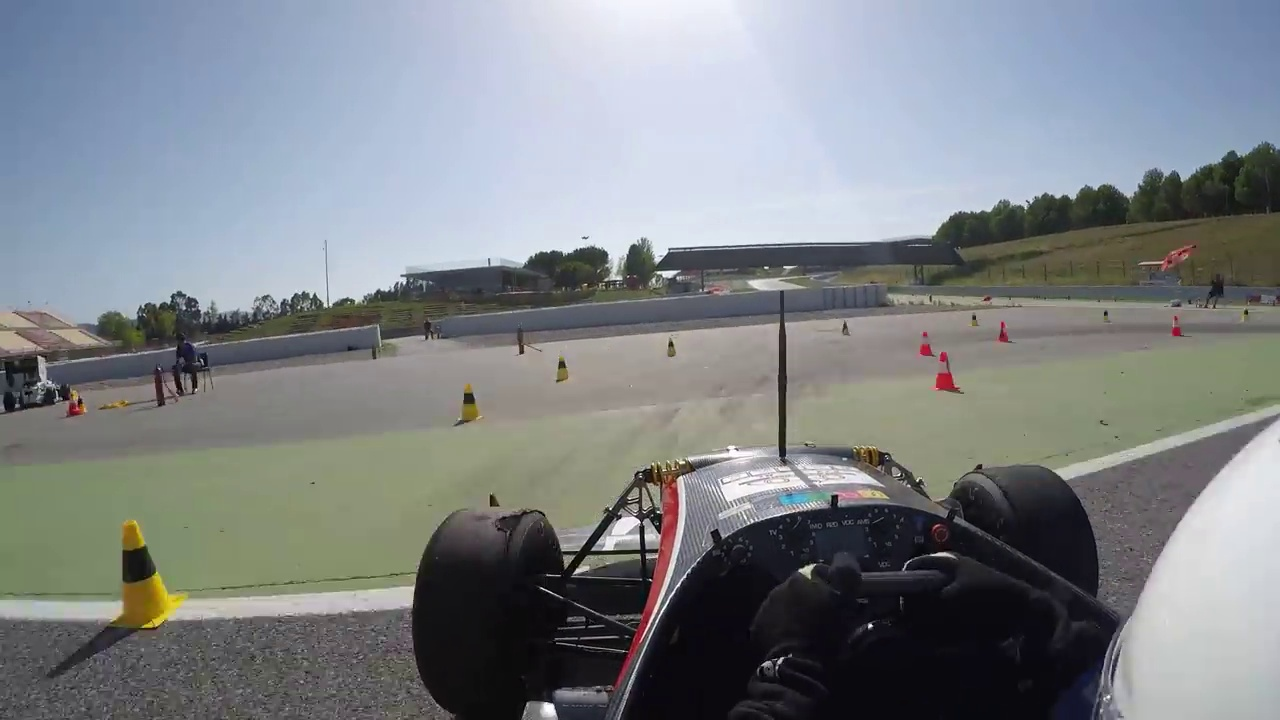Cone: (109, 517, 184, 627), (935, 349, 959, 393), (458, 381, 482, 421)
